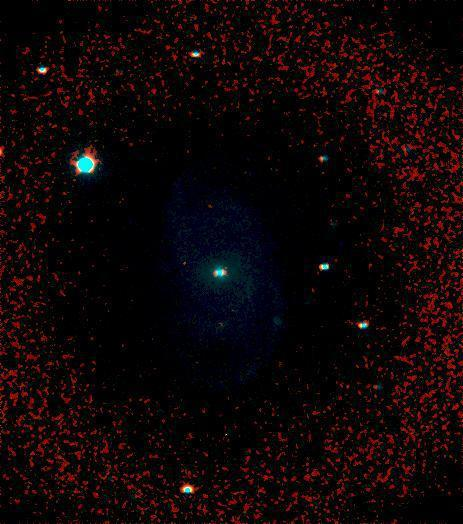star: (171, 248, 201, 278)
